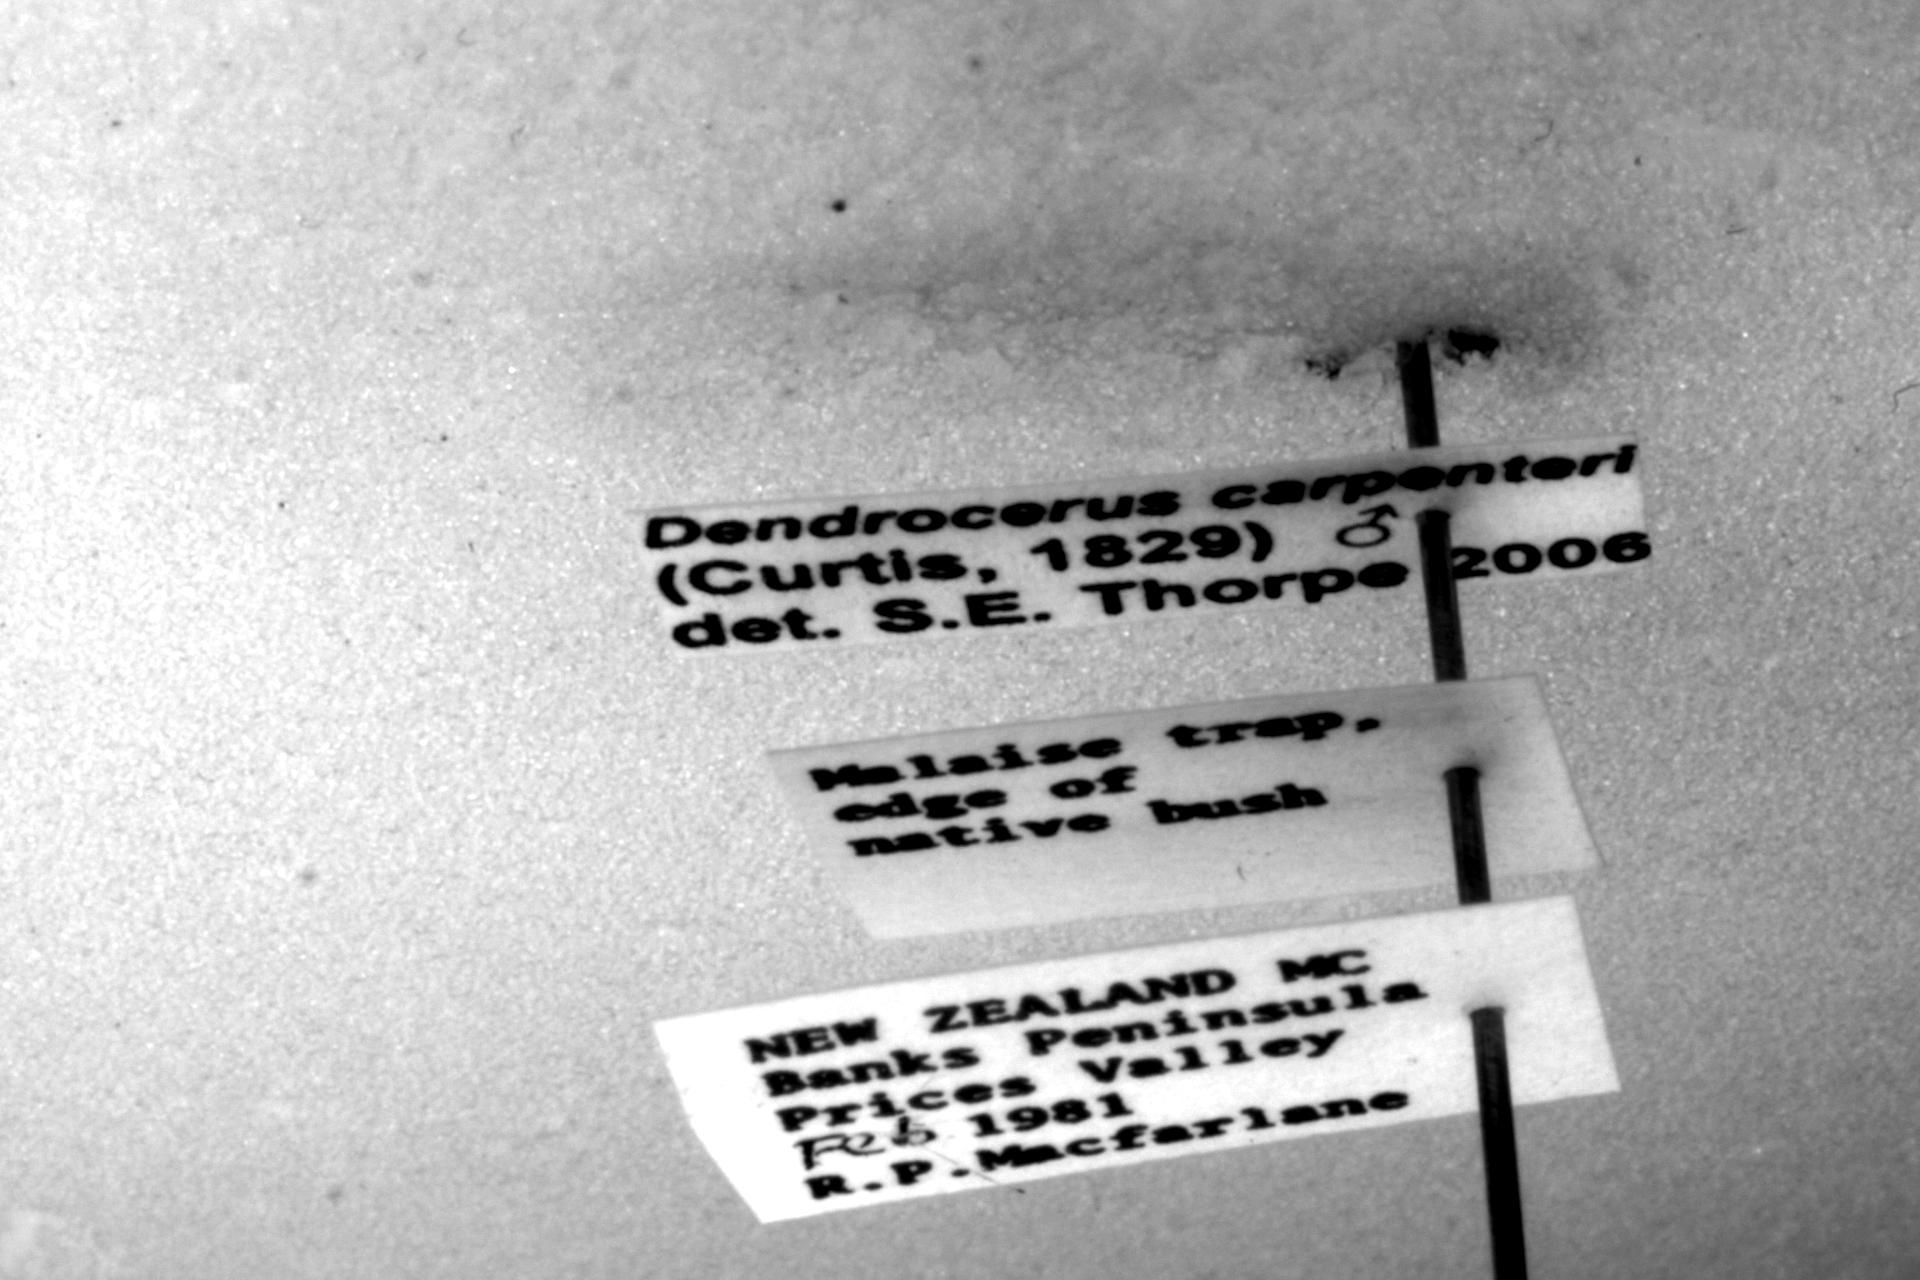typed_label: (656, 896, 1620, 1223), (641, 434, 1650, 653), (773, 674, 1601, 937)
